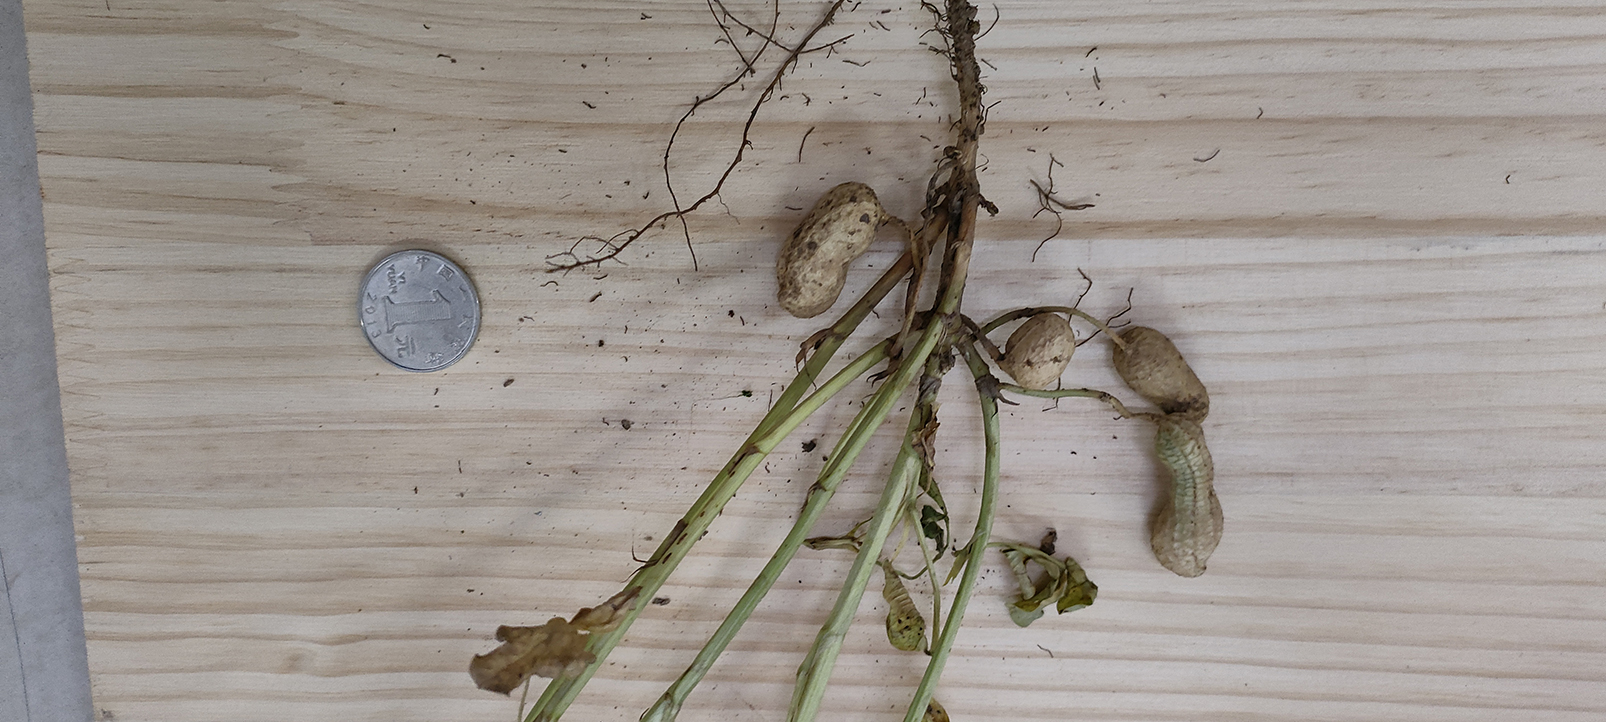h: (777, 182, 882, 318), (1151, 418, 1225, 580), (1114, 328, 1210, 423), (1003, 312, 1075, 391)
